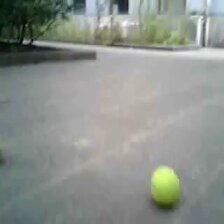tennis: (149, 166, 180, 207)
